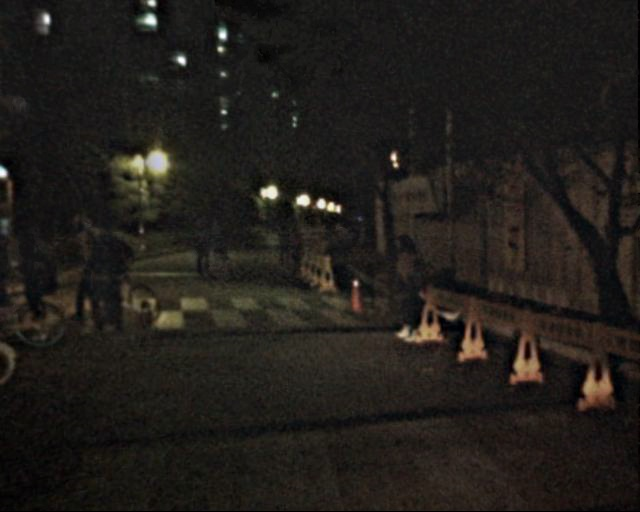person: (68, 213, 111, 318), (385, 237, 428, 341), (93, 221, 135, 324), (17, 220, 56, 315), (1, 216, 18, 331), (189, 217, 215, 281), (206, 221, 231, 283), (270, 225, 289, 272), (284, 228, 303, 274)
